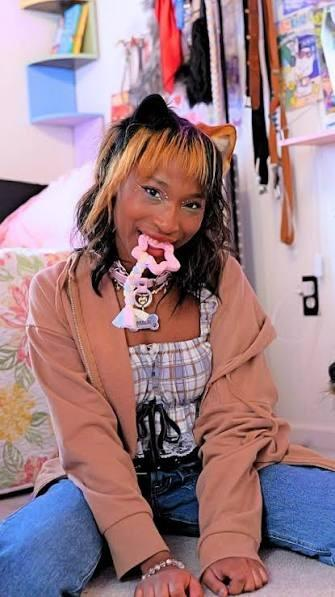non-dog: (0, 93, 335, 597)
